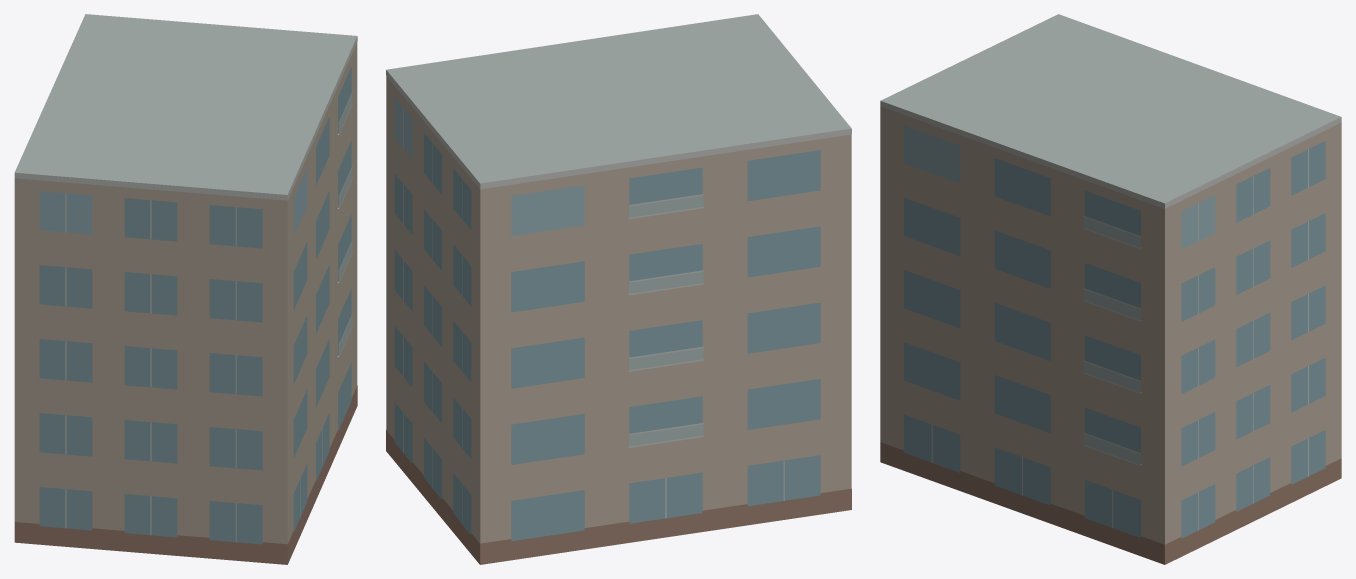
File: survey-upis-32981528.glb
The picture shows the model from 3 angles, left to right: view 1: azimuth 30°, elevation 25°; view 2: azimuth 150°, elevation 25°; view 3: azimuth 270°, elevation 25°; orthographic projection. The views are drawn at different scales.
Parts seen in each view (by area): view 1: survey-upis-32981528.tmp; view 2: survey-upis-32981528.tmp; view 3: survey-upis-32981528.tmp.
Part boxes in pixels (left/top/right/bottom): survey-upis-32981528.tmp: left=14, top=14, right=357, bottom=564; survey-upis-32981528.tmp: left=386, top=14, right=851, bottom=564; survey-upis-32981528.tmp: left=880, top=14, right=1341, bottom=564.
Size of the model in its own units: 17.88 by 15.9 by 18.39.
